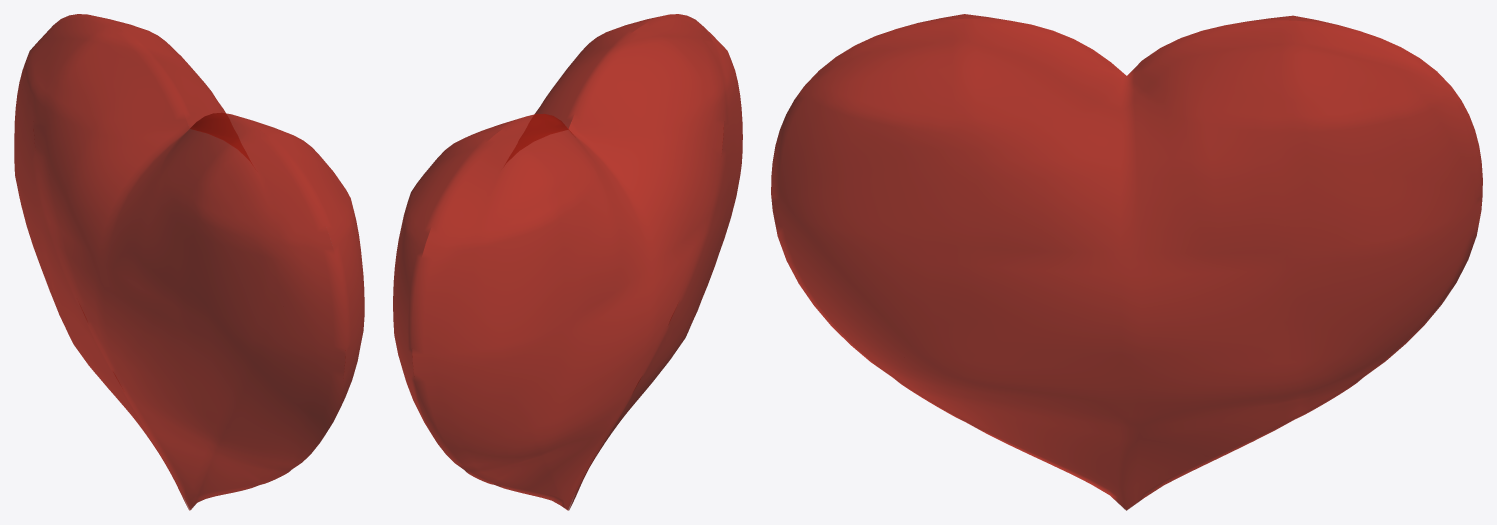
File: Heart.fbx
The picture shows the model from 3 angles, left to right: view 1: azimuth 30°, elevation 25°; view 2: azimuth 150°, elevation 25°; view 3: azimuth 270°, elevation 25°; orthographic projection. The views are drawn at different scales.
Visible parts, largest first — view 1: Heart; view 2: Heart; view 3: Heart.
Part boxes in pixels (x1,y1,x2,y2): Heart: (14, 14, 364, 510); Heart: (393, 14, 742, 510); Heart: (771, 14, 1482, 510).
Bounding box in the file's own units: 1335 × 3108 × 4076.
